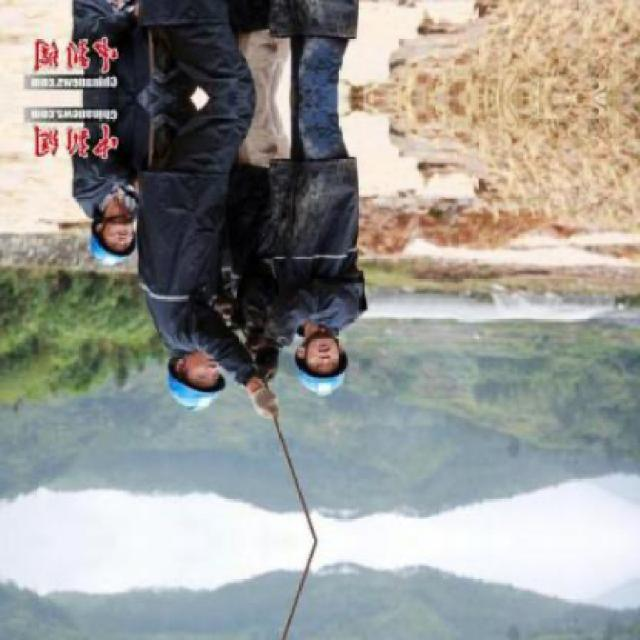con casco: (280, 271, 386, 405), (142, 317, 255, 430), (90, 186, 164, 280)
